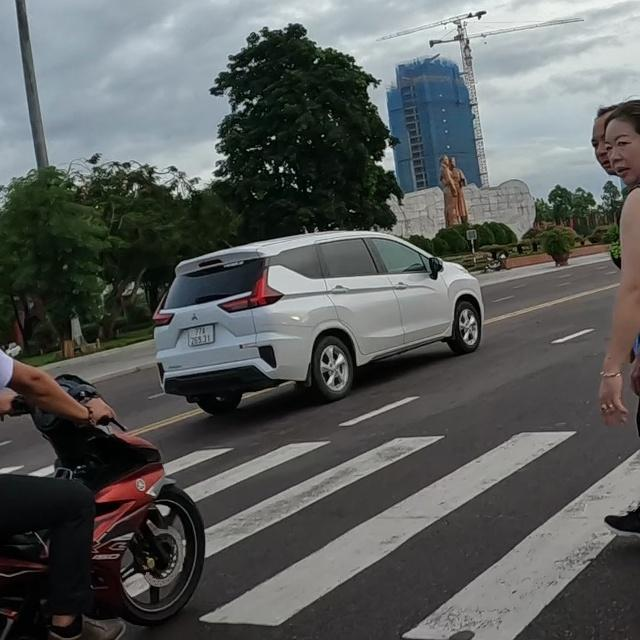license-plate: (187, 324, 214, 347)
